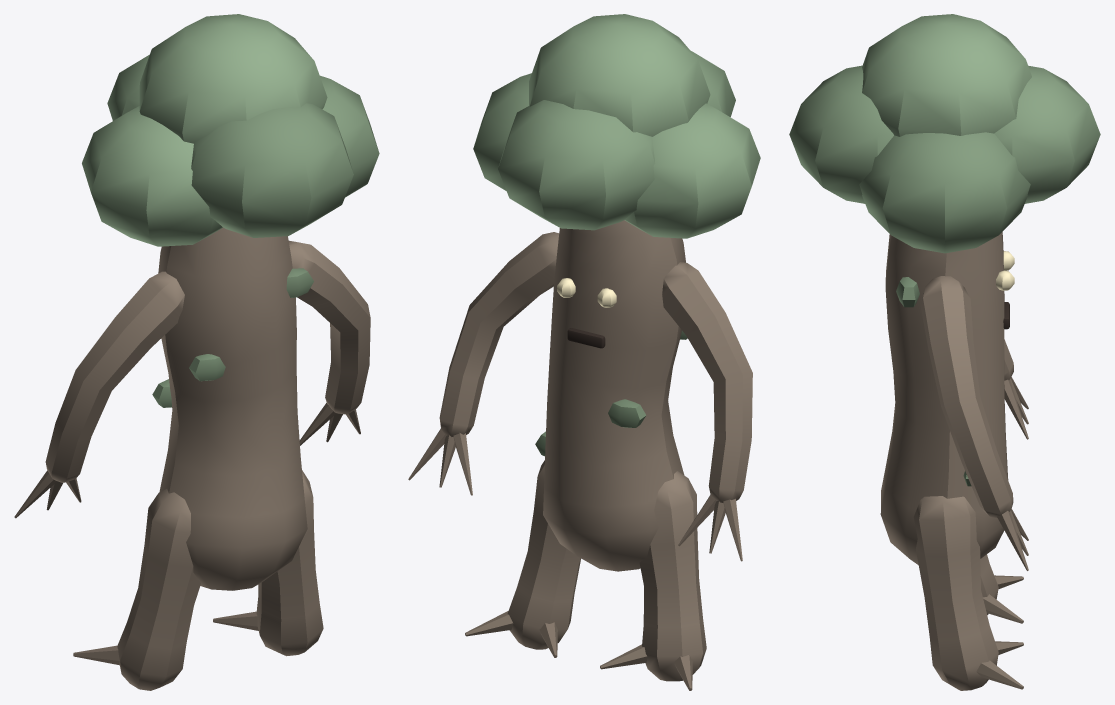
Rendered from barkhide.gltf.
3 renders of one model, left to right at view 1: azimuth 30°, elevation 25°; view 2: azimuth 150°, elevation 25°; view 3: azimuth 270°, elevation 25°, orthographic. The views are drawn at different scales.
Visible parts, largest first — view 1: Body, SwingA, ArmL, ArmR, SwingB; view 2: Body, ArmL, SwingA, ArmR, SwingB; view 3: Body, SwingB, ArmR, SwingA, ArmL.
Boxes of the visible parts, x1=… form: Body: x1=82, y1=14, x2=379, y2=590; SwingA: x1=73, y1=489, x2=200, y2=690; ArmL: x1=14, y1=271, x2=184, y2=518; ArmR: x1=288, y1=240, x2=370, y2=445; SwingB: x1=213, y1=470, x2=323, y2=656; Body: x1=473, y1=14, x2=760, y2=571; ArmL: x1=662, y1=262, x2=752, y2=561; SwingA: x1=600, y1=471, x2=706, y2=690; ArmR: x1=408, y1=232, x2=559, y2=495; SwingB: x1=465, y1=460, x2=580, y2=657; Body: x1=789, y1=14, x2=1100, y2=564; SwingB: x1=913, y1=496, x2=1023, y2=690; ArmR: x1=920, y1=276, x2=1028, y2=570; SwingA: x1=980, y1=554, x2=1023, y2=623; ArmL: x1=1004, y1=339, x2=1028, y2=439.
Size of the model in its own units: 1.49 by 2.68 by 1.2.
